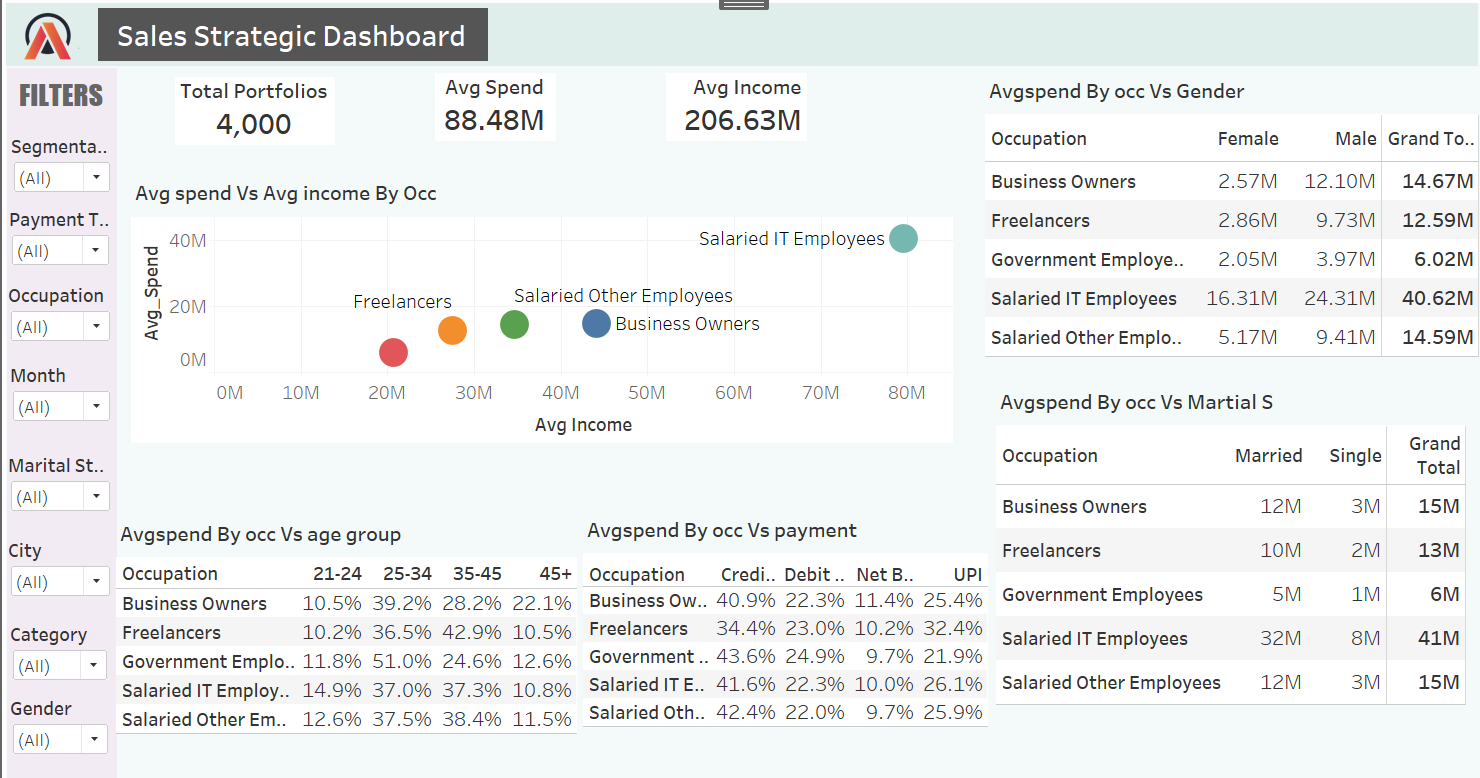

Layout of this report page (visuals, bound fields, positions):
{"tool":"tableau","page":{"name":"Spending Analysis  2","canvas":[1500,900],"ordinal":2},"visuals":[{"type":"blank","box":[8,8,1484,884]},{"type":"image","param":"C:/Users/Prashant Singh/Downloads/Atliq logo.png","box":[17,11,78,68]},{"type":"blank","box":[12,12,1473,63]},{"type":"blank","box":[104,17,390,53]},{"type":"text","box":[119,24,357,39]},{"type":"blank","box":[13,77,110,808]},{"type":"worksheet","title":"Avg Spend","mark":"Automatic","box":[441,82,154,82]},{"type":"worksheet","title":"Avg Income","mark":"Automatic","box":[672,82,158,79]},{"type":"text","box":[17,85,100,39]},{"type":"worksheet","title":"Portfolios","mark":"Automatic","box":[181,86,164,74]},{"type":"filter","title":"Avg spend Vs Avg income By Occ","param":"[federated.12fk7000fx6w68120v5100iaahm6].[none:Calculation_1765692579065749508:n","box":[17,142,102,88]},{"type":"worksheet","title":"Avg spend Vs Avg income By Occ","mark":"Automatic","rows":["Calculation_1765692578749513728"],"cols":["avg_income"],"box":[137,183,822,269]},{"type":"filter","title":"Avg spend Vs Avg income By Occ","param":"[federated.12fk7000fx6w68120v5100iaahm6].[none:payment_type:nk]","box":[15,215,103,84]},{"type":"filter","title":"Avg spend Vs Avg income By Occ","param":"[federated.12fk7000fx6w68120v5100iaahm6].[none:occupation:nk]","box":[14,291,105,94]},{"type":"filter","title":"Avg spend Vs Avg income By Occ","param":"[federated.12fk7000fx6w68120v5100iaahm6].[none:month:nk]","box":[16,371,103,100]},{"type":"worksheet","title":"Avgspend By occ Vs Martial S","mark":"Automatic","rows":["occupation"],"cols":["marital status"],"box":[1002,392,476,370]},{"type":"filter","title":"Avg spend Vs Avg income By Occ","param":"[federated.12fk7000fx6w68120v5100iaahm6].[none:marital status:nk]","box":[14,461,105,79]},{"type":"worksheet","title":"Avgspend By occ Vs payment","mark":"Automatic","rows":["occupation"],"cols":["payment_type"],"box":[589,520,416,345]},{"type":"worksheet","title":"Avgspend By occ Vs age group","mark":"Automatic","rows":["occupation"],"cols":["age_group"],"box":[122,524,495,345]},{"type":"filter","title":"Avg spend Vs Avg income By Occ","param":"[federated.12fk7000fx6w68120v5100iaahm6].[none:city:nk]","box":[14,546,105,101]},{"type":"filter","title":"Avg spend Vs Avg income By Occ","param":"[federated.12fk7000fx6w68120v5100iaahm6].[none:category:nk]","box":[16,630,100,102]},{"type":"filter","title":"Avg spend Vs Avg income By Occ","param":"[federated.12fk7000fx6w68120v5100iaahm6].[none:gender:nk]","box":[16,704,101,113]}]}

Visuals, with their boxes on the page's 1500x900 design canvas (x1, y1, x2, y2). These are canvas units, not pixel positions in the 1480x778 screenshot, which may show the page scaled, cropped or inside an application window:
blank: {"left": 8, "top": 8, "right": 1492, "bottom": 892}
image: {"left": 17, "top": 11, "right": 95, "bottom": 79}
blank: {"left": 12, "top": 12, "right": 1485, "bottom": 75}
blank: {"left": 104, "top": 17, "right": 494, "bottom": 70}
text: {"left": 119, "top": 24, "right": 476, "bottom": 63}
blank: {"left": 13, "top": 77, "right": 123, "bottom": 885}
"Avg Spend" worksheet: {"left": 441, "top": 82, "right": 595, "bottom": 164}
"Avg Income" worksheet: {"left": 672, "top": 82, "right": 830, "bottom": 161}
text: {"left": 17, "top": 85, "right": 117, "bottom": 124}
"Portfolios" worksheet: {"left": 181, "top": 86, "right": 345, "bottom": 160}
"Avg spend Vs Avg income By Occ" filter: {"left": 17, "top": 142, "right": 119, "bottom": 230}
"Avg spend Vs Avg income By Occ" worksheet: {"left": 137, "top": 183, "right": 959, "bottom": 452}
"Avg spend Vs Avg income By Occ" filter: {"left": 15, "top": 215, "right": 118, "bottom": 299}
"Avg spend Vs Avg income By Occ" filter: {"left": 14, "top": 291, "right": 119, "bottom": 385}
"Avg spend Vs Avg income By Occ" filter: {"left": 16, "top": 371, "right": 119, "bottom": 471}
"Avgspend By occ Vs Martial S" worksheet: {"left": 1002, "top": 392, "right": 1478, "bottom": 762}
"Avg spend Vs Avg income By Occ" filter: {"left": 14, "top": 461, "right": 119, "bottom": 540}
"Avgspend By occ Vs payment" worksheet: {"left": 589, "top": 520, "right": 1005, "bottom": 865}
"Avgspend By occ Vs age group" worksheet: {"left": 122, "top": 524, "right": 617, "bottom": 869}
"Avg spend Vs Avg income By Occ" filter: {"left": 14, "top": 546, "right": 119, "bottom": 647}
"Avg spend Vs Avg income By Occ" filter: {"left": 16, "top": 630, "right": 116, "bottom": 732}
"Avg spend Vs Avg income By Occ" filter: {"left": 16, "top": 704, "right": 117, "bottom": 817}
